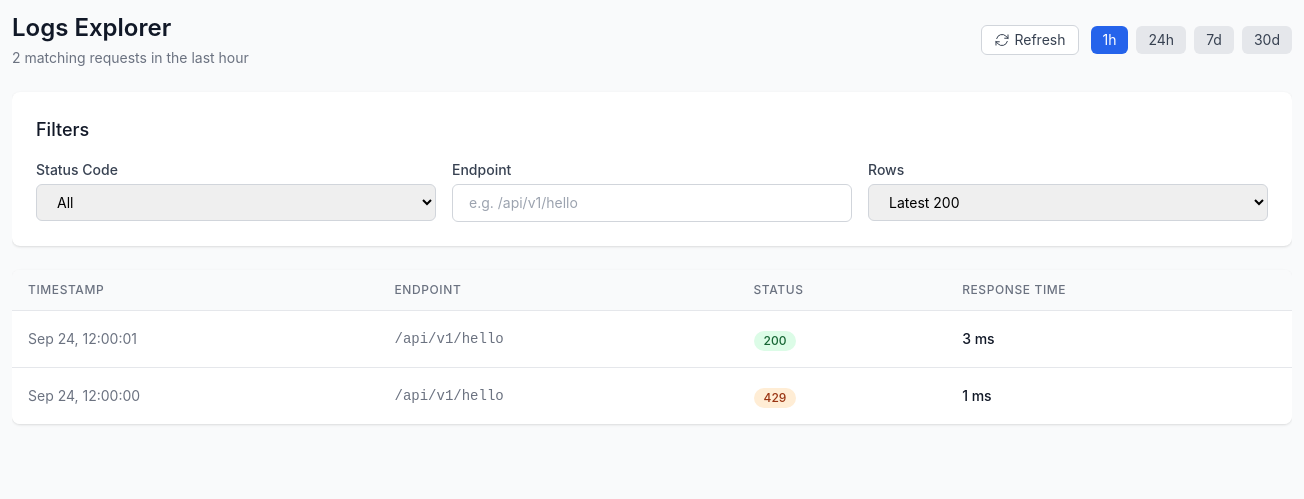
Scenario: LogsExplorer › the refresh button re-runs the query
The image size is (1304, 499).
expect the text "2 matching requests in the last hour" is shown: met, box [12,48,249,68]
Click the button "Refresh" at (1030, 40), box [982,25,1078,55]
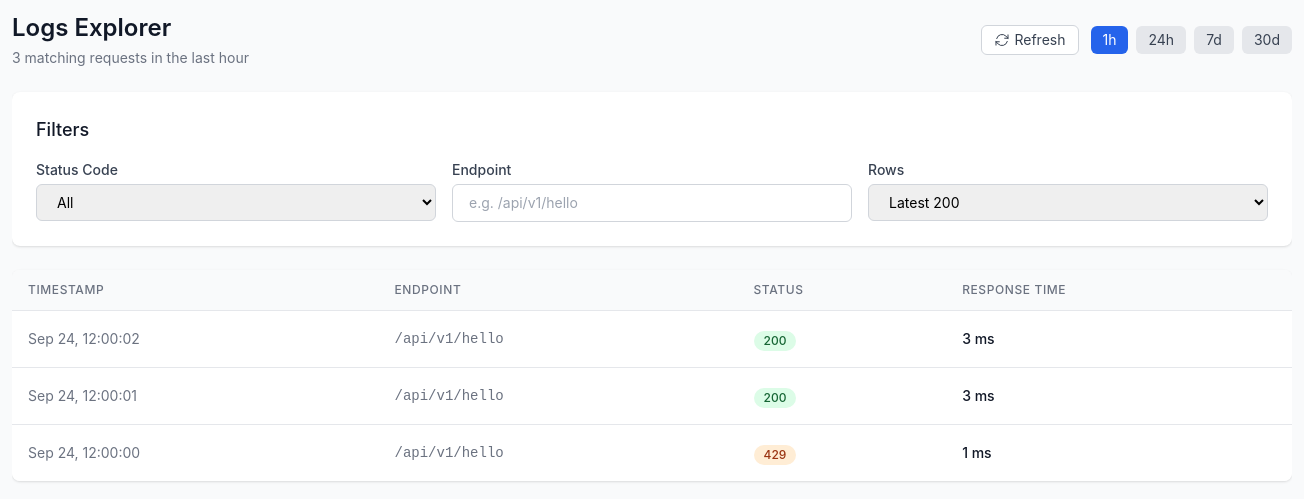
expect the text "3 matching requests in the last hour" is shown: met, box [12,48,249,68]
